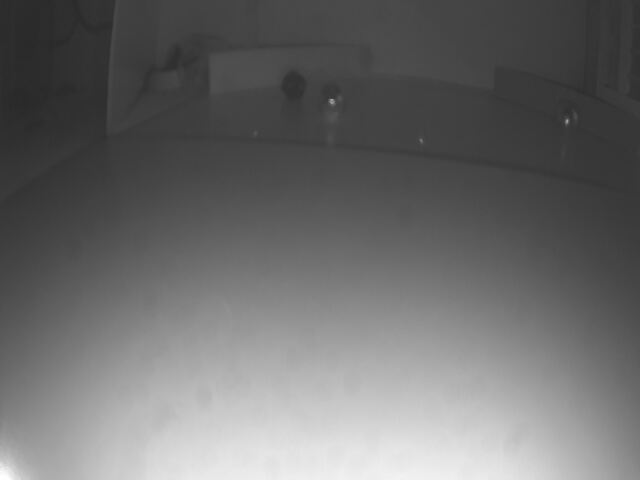Green: (496, 62, 638, 147)
Red: (208, 47, 370, 96)
